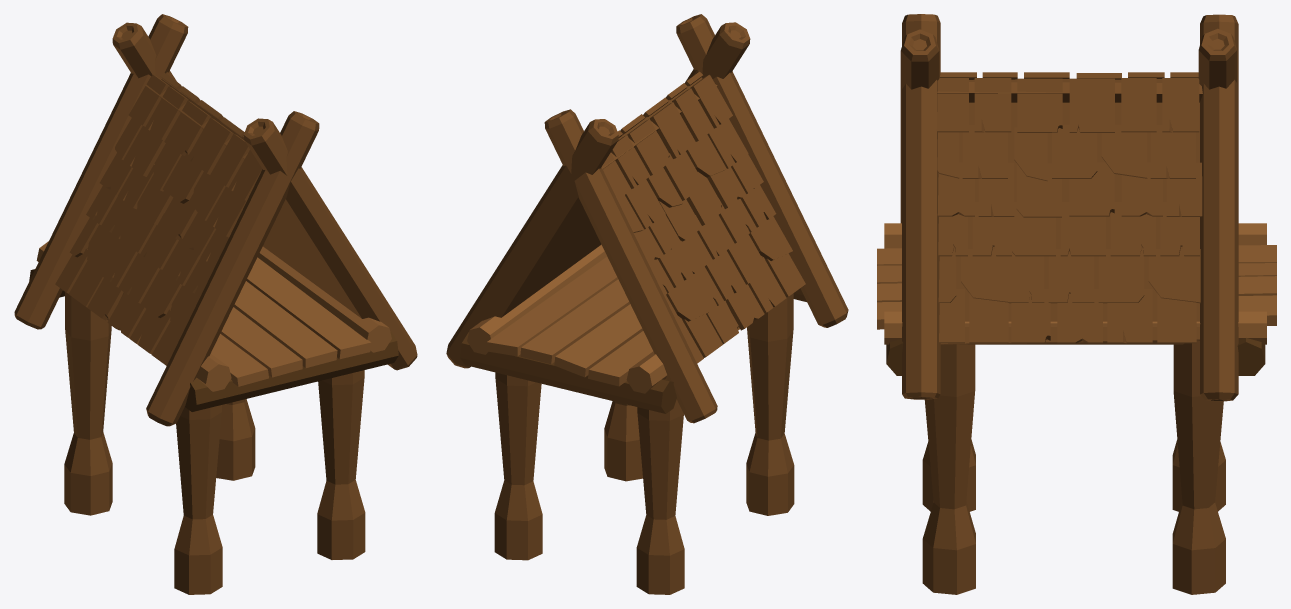
Rendered from B_A_TowerWood.fbx.
3 views of the same model, side by side, from view 1: azimuth 30°, elevation 25°; view 2: azimuth 150°, elevation 25°; view 3: azimuth 270°, elevation 25° (orthographic). The views are drawn at different scales.
Parts seen in each view (by area): view 1: B_A_TowerWood; view 2: B_A_TowerWood; view 3: B_A_TowerWood.
Boxes of the visible parts, x1=… form: B_A_TowerWood: x1=14, y1=14, x2=417, y2=594; B_A_TowerWood: x1=446, y1=14, x2=848, y2=594; B_A_TowerWood: x1=877, y1=14, x2=1276, y2=594.
Bounding box in the file's own units: 345 × 567 × 394.
